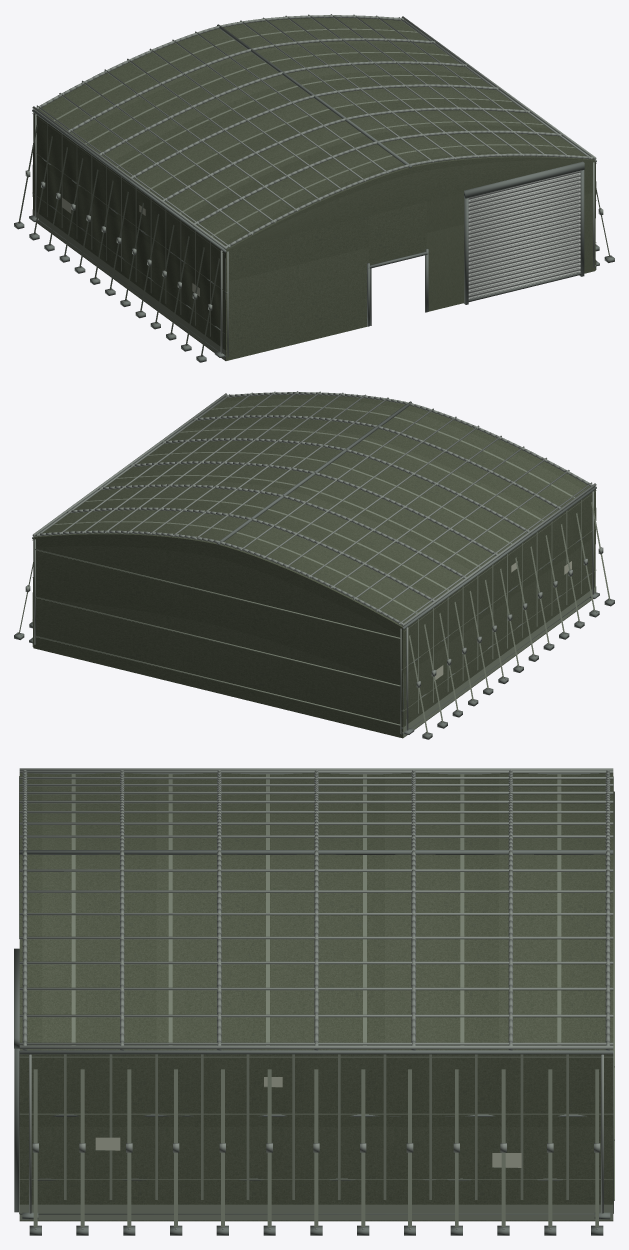
File: hangar.glb
The picture shows the model from 3 angles, top to bottom: view 1: azimuth 30°, elevation 25°; view 2: azimuth 150°, elevation 25°; view 3: azimuth 270°, elevation 25°; orthographic projection. The views are drawn at different scales.
Parts seen in each view (by area): view 1: Выцветший оливковый армированный тент, Окрашенная сталь каркаса, Оцинкованные ламели ворот, Усилительная тканевая лента, Тёмные оцинкованные узлы, Резиновый уплотнитель; view 2: Выцветший оливковый армированный тент, Окрашенная сталь каркаса, Усилительная тканевая лента, Тёмные оцинкованные узлы; view 3: Выцветший оливковый армированный тент, Окрашенная сталь каркаса, Усилительная тканевая лента, Тёмные оцинкованные узлы, Заплаты и выцветшая ткань.
Boxes of the visible parts, x1,y1,x2,y2 form: Выцветший оливковый армированный тент: (32,18,596,360); Окрашенная сталь каркаса: (17,14,612,357); Оцинкованные ламели ворот: (468,170,580,299); Усилительная тканевая лента: (18,17,610,360); Тёмные оцинкованные узлы: (14,21,614,362); Резиновый уплотнитель: (370,255,581,325); Выцветший оливковый армированный тент: (32,395,596,738); Окрашенная сталь каркаса: (16,391,611,734); Усилительная тканевая лента: (18,394,610,737); Тёмные оцинкованные узлы: (14,398,614,739); Выцветший оливковый армированный тент: (19,773,613,1221); Окрашенная сталь каркаса: (19,768,613,1229); Усилительная тканевая лента: (19,774,614,1226); Тёмные оцинкованные узлы: (14,773,613,1235); Заплаты и выцветшая ткань: (95,1077,521,1167).
Size of the model in its own units: 20.52 by 7.16 by 16.72.
7 materials, 1 textured.
